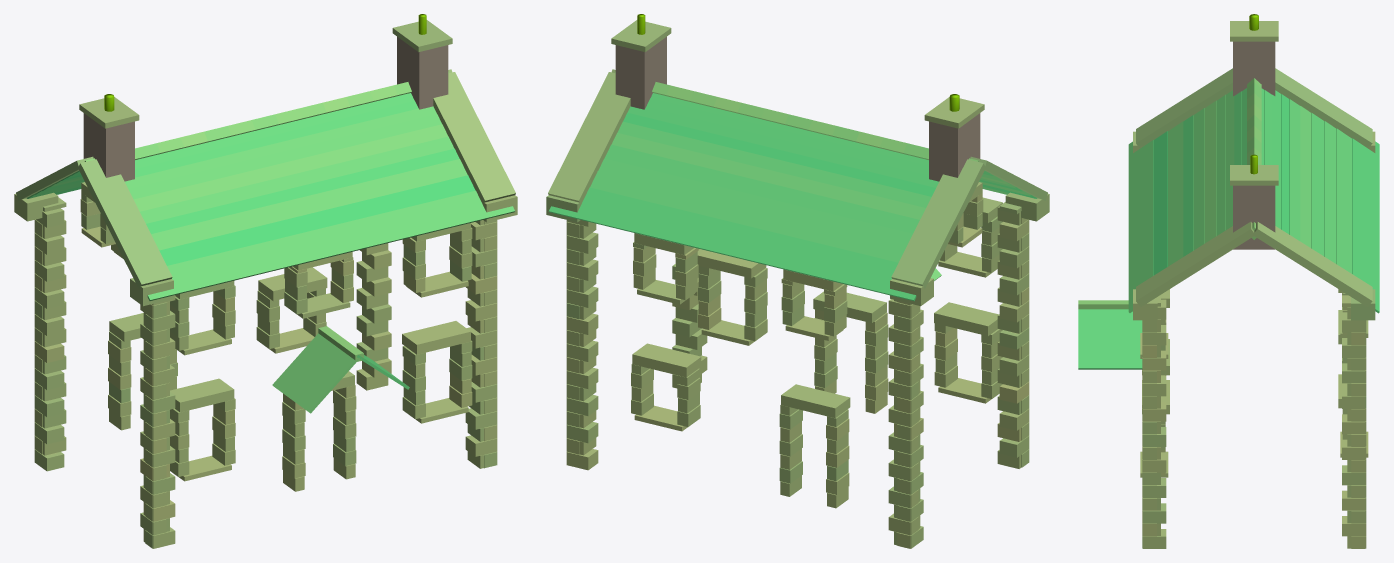
The model's file is SM_Bld_213_Stone.glb.
3 renders of one model, left to right at view 1: azimuth 30°, elevation 25°; view 2: azimuth 150°, elevation 25°; view 3: azimuth 270°, elevation 25°, orthographic. The views are drawn at different scales.
Visible parts, largest first — view 1: SM_Bld_213_Stone; view 2: SM_Bld_213_Stone; view 3: SM_Bld_213_Stone.
Boxes of the visible parts, <box> form: SM_Bld_213_Stone: <box>14,14,517,548</box>; SM_Bld_213_Stone: <box>546,14,1049,548</box>; SM_Bld_213_Stone: <box>1078,14,1379,548</box>.
Bounding box in the file's own units: 8.69 × 9.08 × 6.44.
